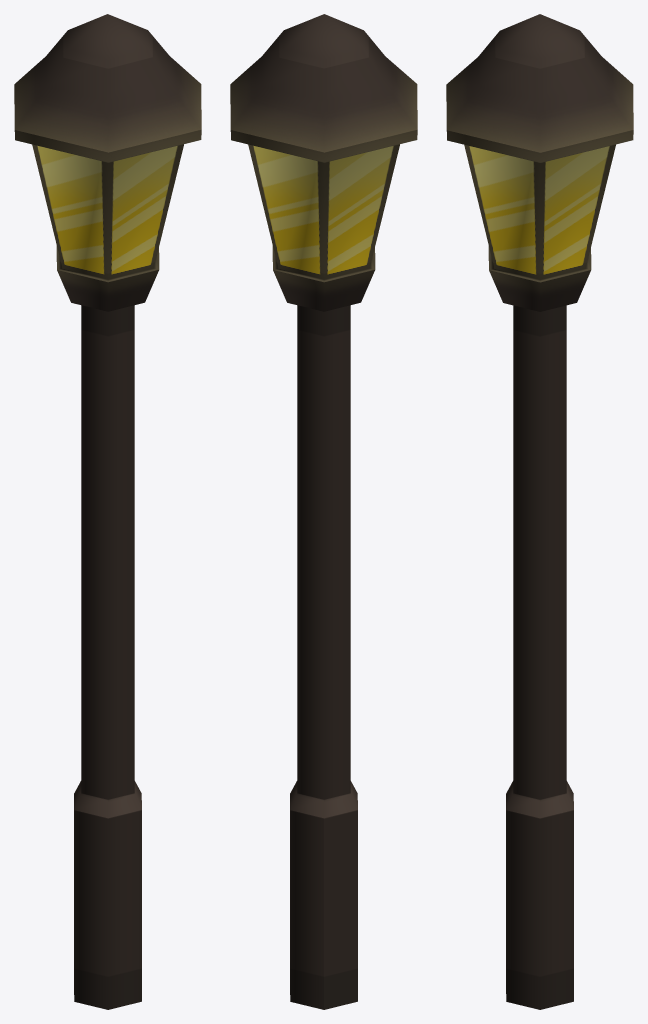
The model's file is city_lamp_post.fbx.
3 views of the same model, side by side, from view 1: azimuth 30°, elevation 25°; view 2: azimuth 150°, elevation 25°; view 3: azimuth 270°, elevation 25° (orthographic).
Parts seen in each view (by area): view 1: city:polySurface243; view 2: city:polySurface243; view 3: city:polySurface243.
Boxes of the visible parts, <box> form: city:polySurface243: <box>14,14,201,1009</box>; city:polySurface243: <box>230,14,417,1009</box>; city:polySurface243: <box>446,14,633,1009</box>.
Bounding box in the file's own units: 0.8458 × 4.24 × 0.7343.
